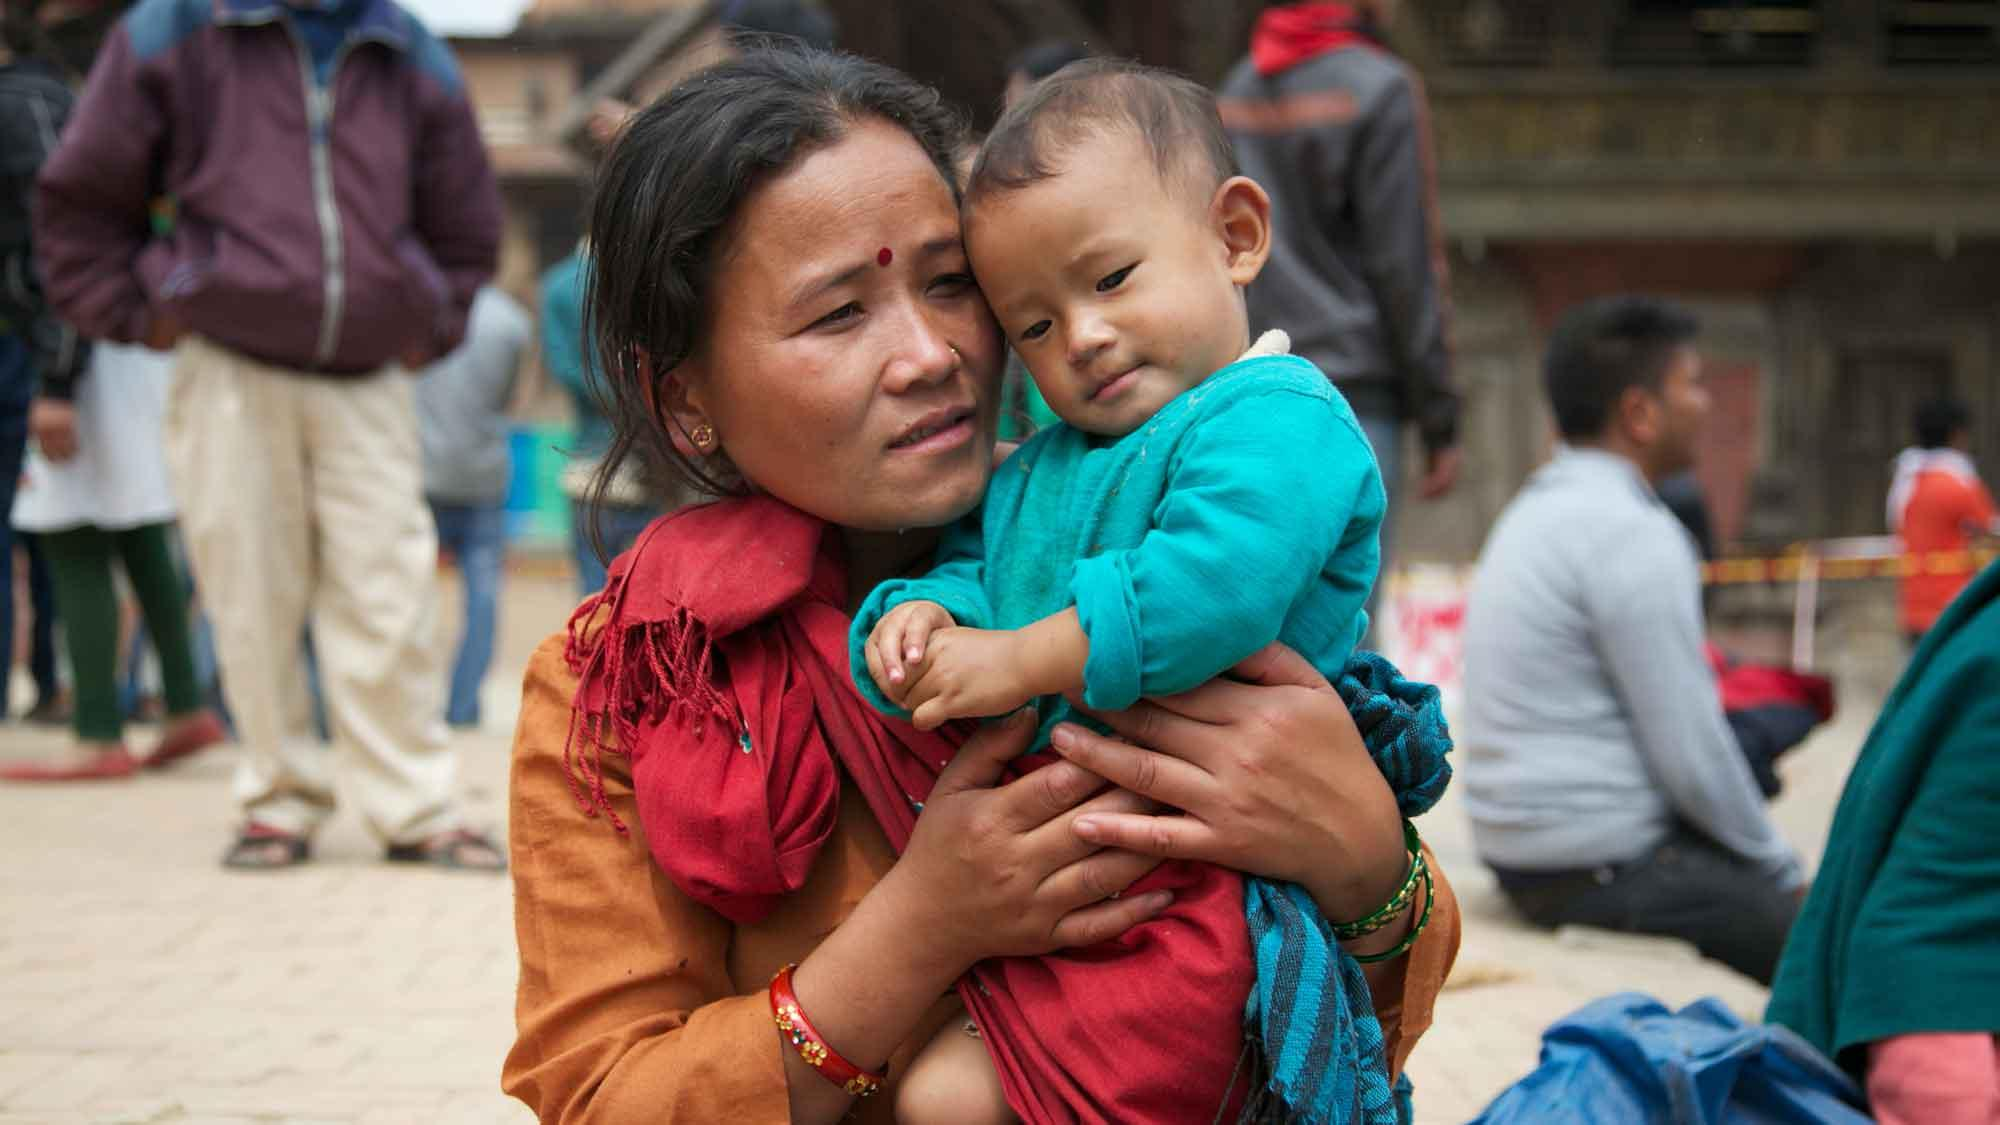human: (465, 27, 1500, 1125), (846, 51, 1434, 924)
